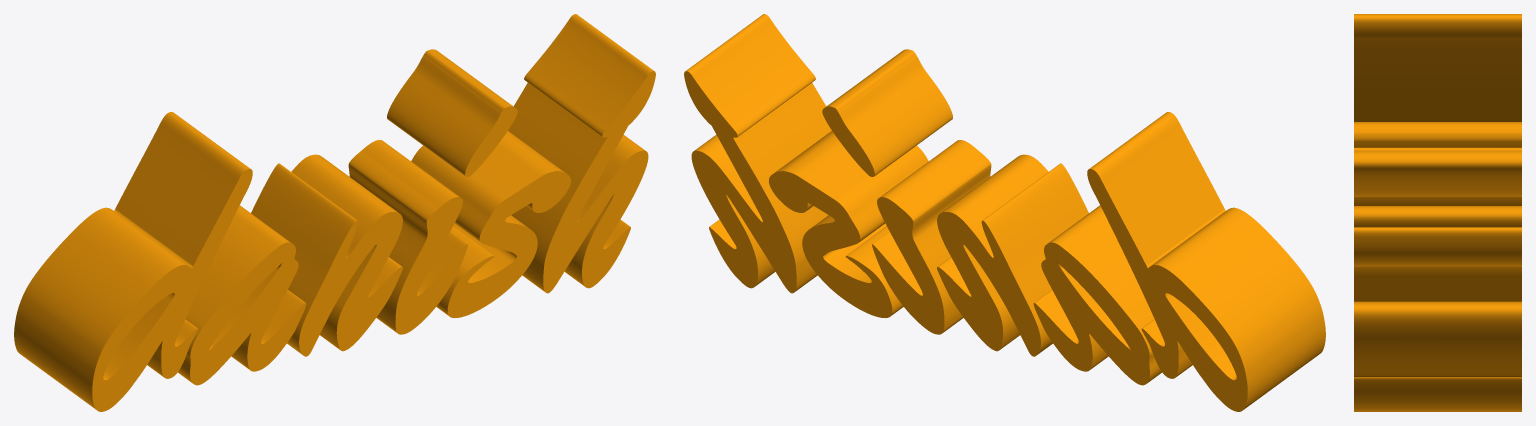
3 views of the same model, side by side, from view 1: azimuth 30°, elevation 25°; view 2: azimuth 150°, elevation 25°; view 3: azimuth 270°, elevation 25° (orthographic). The views are drawn at different scales.
Visible parts, largest first — view 1: danish; view 2: danish; view 3: danish.
Part boxes in pixels (x1,y1,x2,y2): danish: (14,14,655,411); danish: (684,14,1325,411); danish: (1354,14,1521,411).
Bounding box in the file's own units: 3.33 × 1.17 × 0.8.
